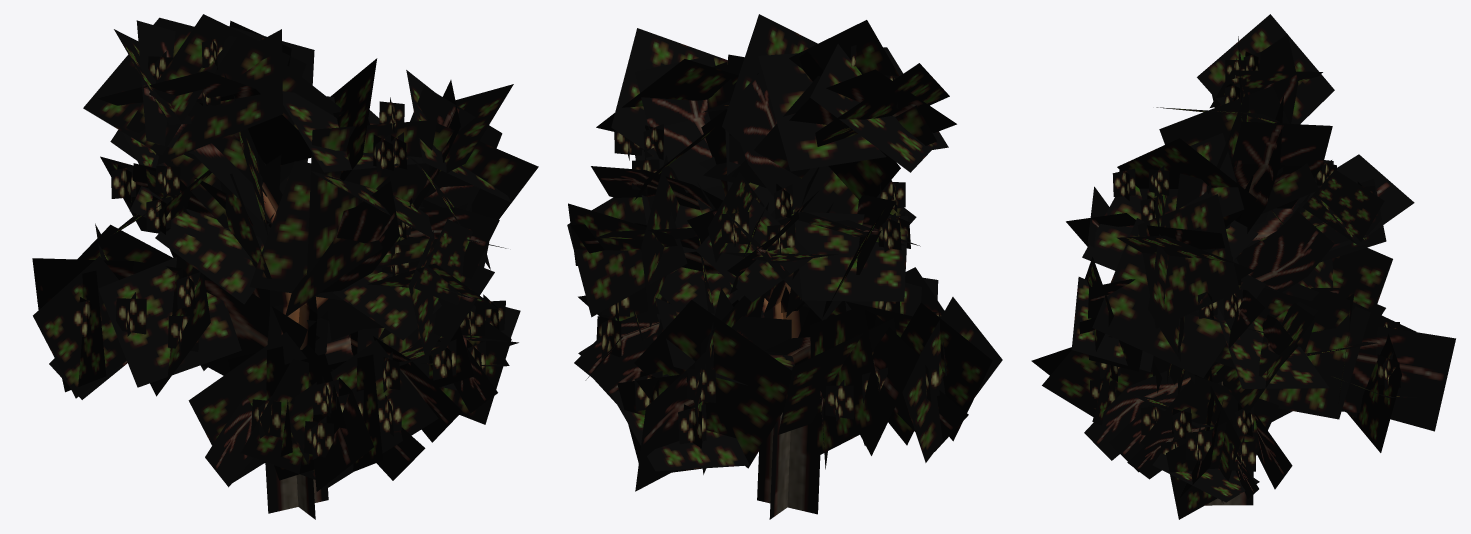
The model's file is Mänty_2.fbx.
3 renders of one model, left to right at view 1: azimuth 30°, elevation 25°; view 2: azimuth 150°, elevation 25°; view 3: azimuth 270°, elevation 25°, orthographic. The views are drawn at different scales.
Visible parts, largest first — view 1: Mänty.001; view 2: Mänty.001; view 3: Mänty.001.
Part boxes in pixels (bbox=[...]): Mänty.001: bbox=[32, 14, 538, 519]; Mänty.001: bbox=[567, 14, 1002, 519]; Mänty.001: bbox=[1031, 14, 1455, 519].
Bounding box in the file's own units: 1490 × 1614 × 1429.
Materials: 1 (1 with a texture image).
